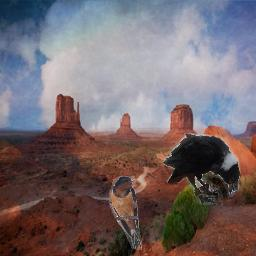Crow: (163, 133, 241, 205)
Swallow: (109, 176, 142, 250)
